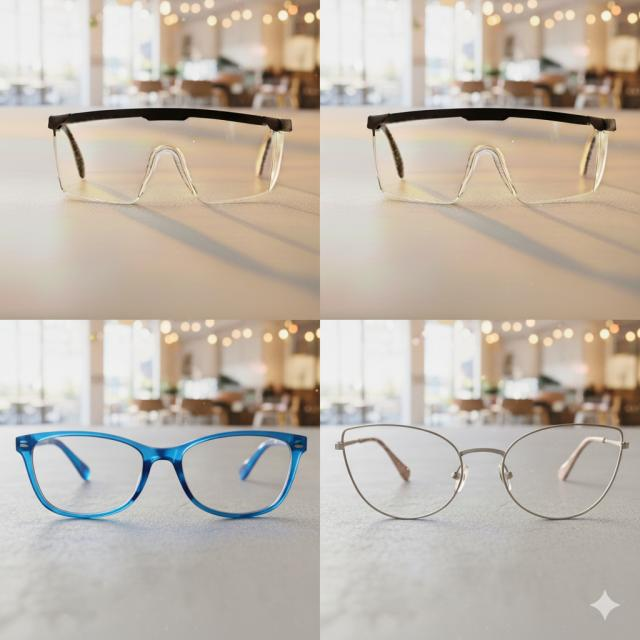oculos-epi: (362, 106, 620, 212), (41, 104, 297, 207)
sem_oculos: (335, 424, 629, 519), (16, 431, 306, 518)
